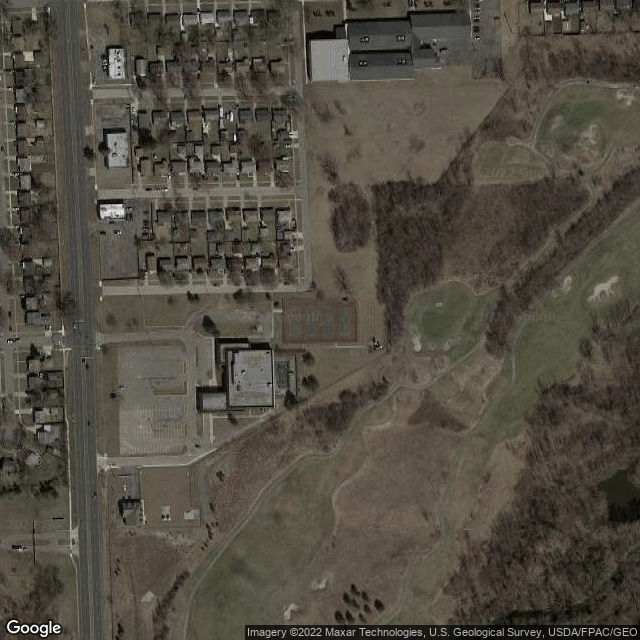Court: (288, 307, 302, 335), (322, 306, 335, 336), (305, 308, 318, 336), (339, 307, 351, 335)
